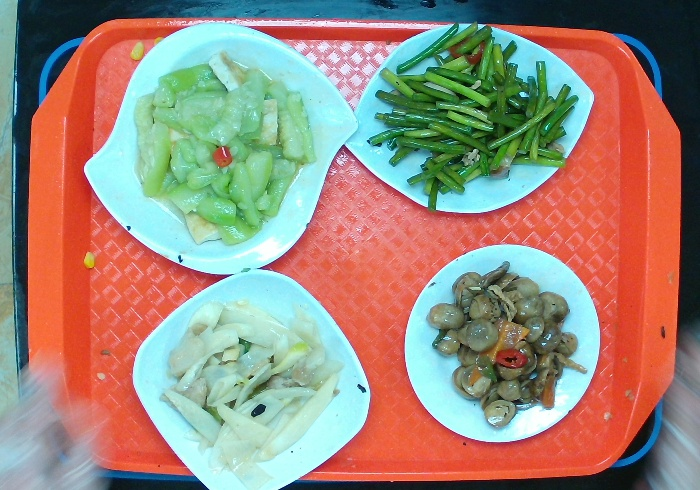RJxy-Da_Du_Pan: (348, 19, 597, 215)
RJxy-Shuang_Jiao_Pan: (80, 22, 362, 276)
RJxy-Si_Fang_Wan: (130, 270, 372, 490)
RJxy-Xiao_Yuan_Die: (400, 243, 605, 447)
